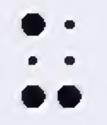upang: (21, 13, 82, 107)
